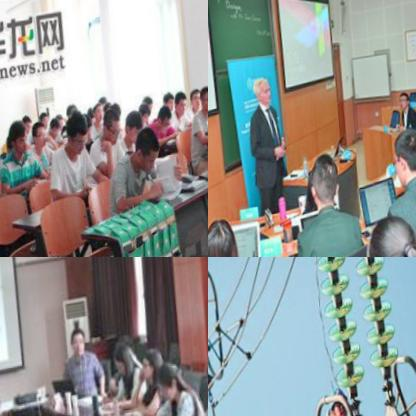head: (361, 206, 416, 257), (306, 149, 343, 209), (153, 359, 185, 411), (130, 125, 163, 175), (208, 214, 245, 257), (391, 124, 416, 186), (63, 112, 91, 157), (109, 338, 137, 383), (139, 347, 167, 390), (248, 73, 275, 109), (5, 119, 29, 159), (122, 111, 145, 147), (100, 107, 120, 147), (151, 105, 173, 139), (67, 324, 87, 360), (29, 120, 50, 153), (78, 115, 95, 148), (171, 89, 190, 118), (186, 87, 203, 115), (194, 83, 208, 116), (45, 115, 61, 141), (18, 112, 33, 139), (138, 95, 154, 118), (90, 99, 104, 125), (136, 104, 150, 129), (160, 91, 175, 112), (398, 94, 411, 114), (36, 110, 49, 129), (52, 110, 63, 130)
helmet: (324, 385, 354, 416)
